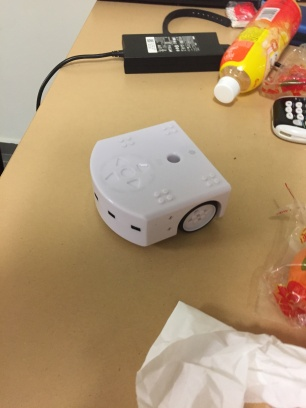thymio: (80, 118, 235, 251)
